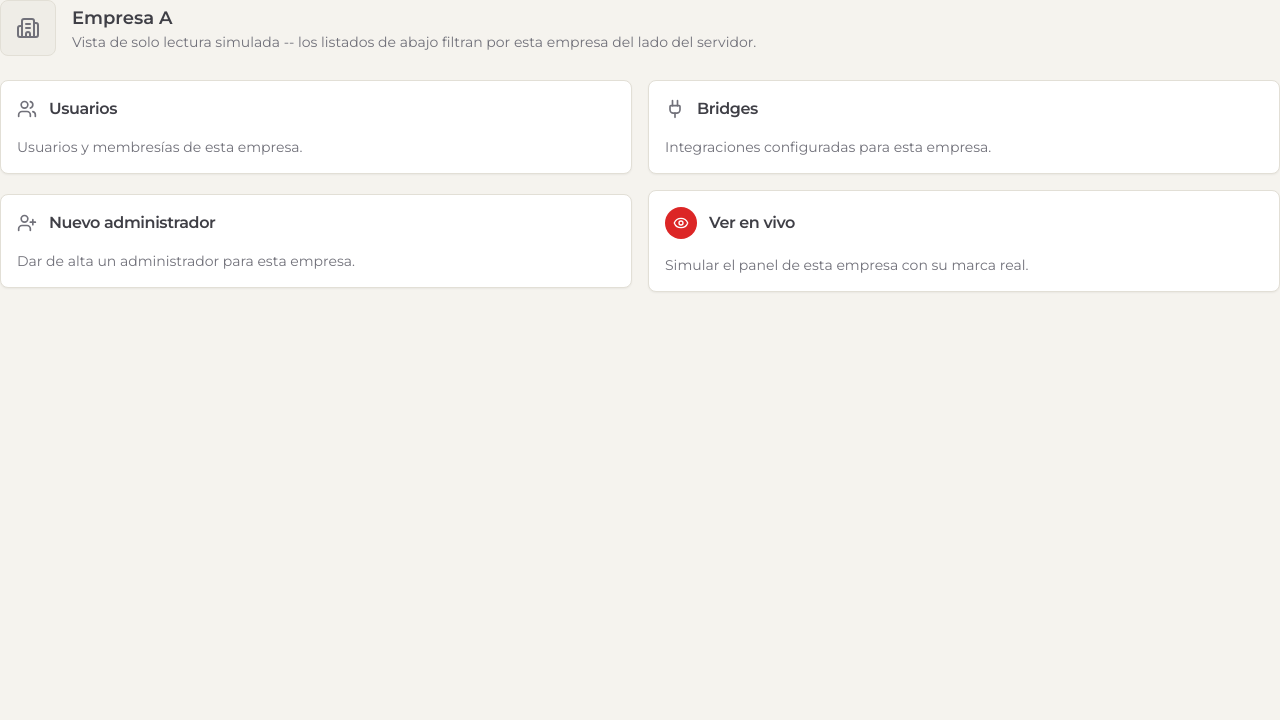
Test case: EmpresaDetallePage — alta de administrador de empresa (Item 23) › muestra el disparador «Nuevo administrador» para ADMINISTRADOR y abre el diálogo al hacer clic
Expected: the heading "Empresa A" is shown, [72, 7, 173, 29]
Step 1. Click the button "Nuevo administrador" → (316, 241), box [0, 190, 632, 292]
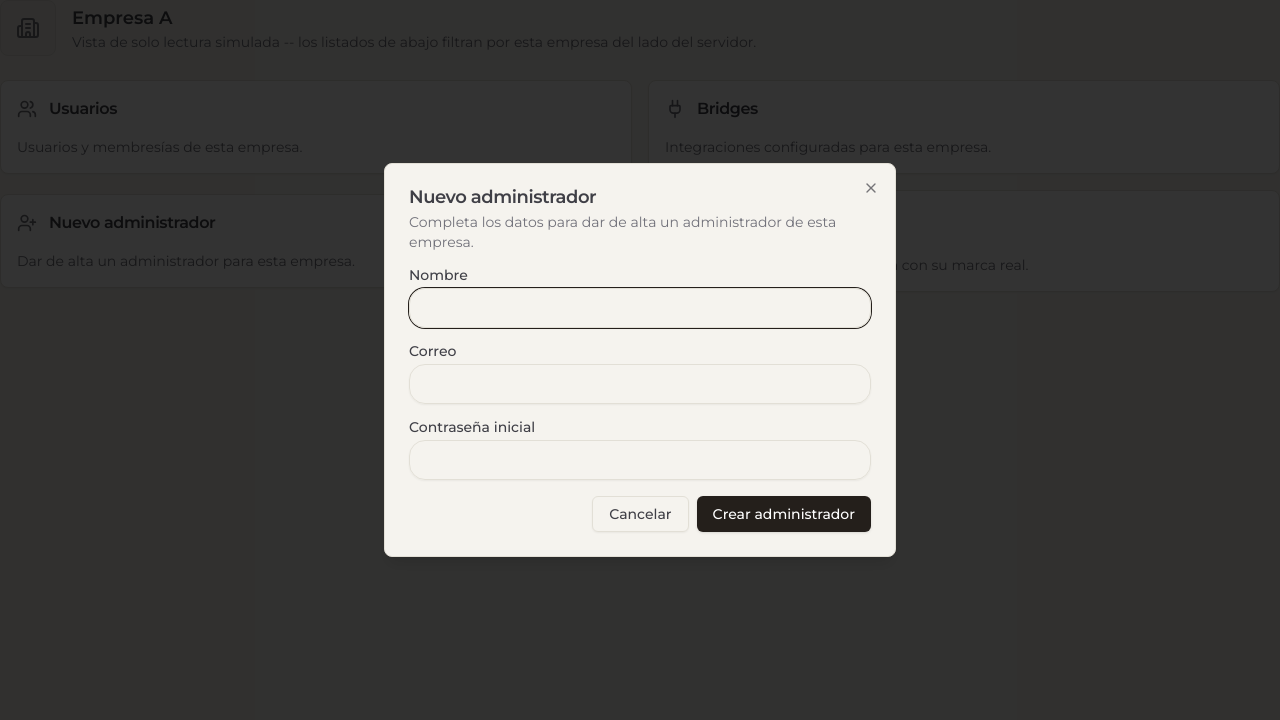
Expected: the dialog is shown, [384, 163, 896, 557]
Expected: the button "Crear administrador" is shown, [696, 496, 871, 532]
